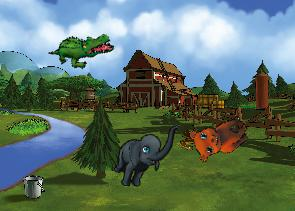bear: (183, 102, 254, 169)
crocodile: (47, 18, 116, 80)
elephant: (111, 115, 179, 194)
